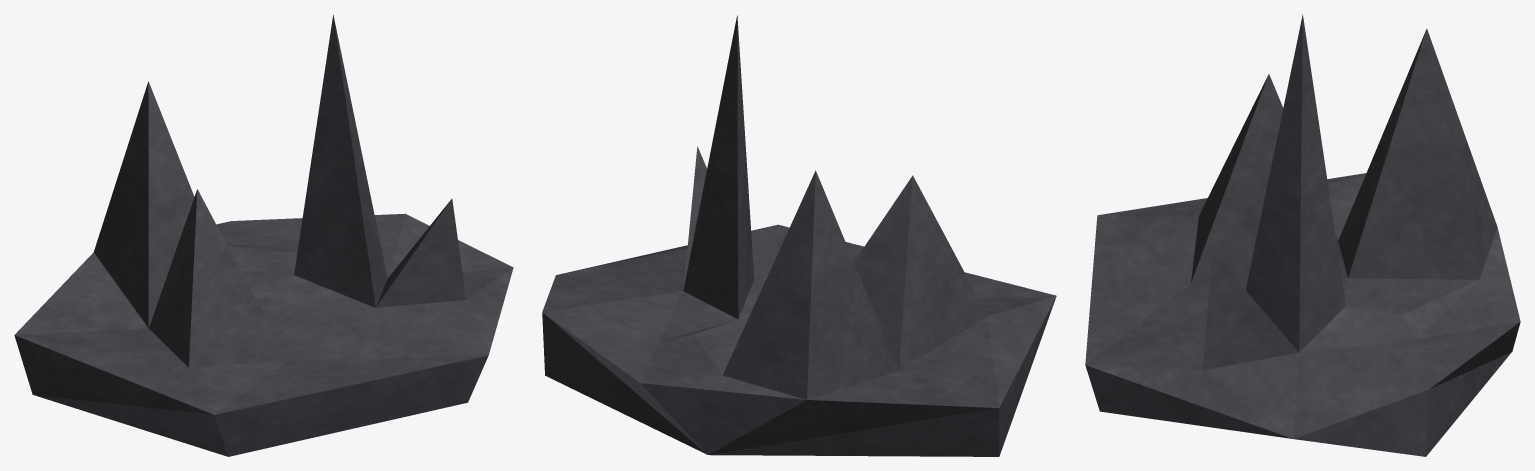
File: volcanic_aa_clinker_LOD1.glb
3 renders of one model, left to right at view 1: azimuth 30°, elevation 25°; view 2: azimuth 150°, elevation 25°; view 3: azimuth 270°, elevation 25°, orthographic. The views are drawn at different scales.
Parts seen in each view (by area): view 1: volcanic_aa_clinker_LOD1; view 2: volcanic_aa_clinker_LOD1; view 3: volcanic_aa_clinker_LOD1.
Boxes of the visible parts, x1=… form: volcanic_aa_clinker_LOD1: x1=14, y1=15, x2=513, y2=456; volcanic_aa_clinker_LOD1: x1=542, y1=15, x2=1056, y2=456; volcanic_aa_clinker_LOD1: x1=1085, y1=14, x2=1520, y2=456.
Size of the model in its own units: 1.53 by 1.06 by 1.12.
Materials: 1 (1 with a texture image).
